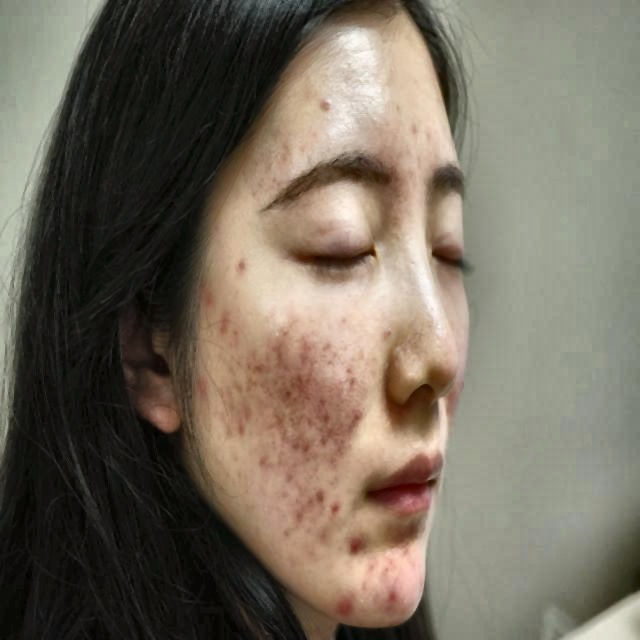papule: (190, 362, 221, 407), (381, 581, 410, 622), (312, 390, 340, 428), (212, 306, 240, 343), (334, 583, 356, 620), (251, 441, 273, 477), (195, 275, 218, 309), (227, 242, 253, 268), (333, 432, 355, 461), (309, 472, 327, 506), (289, 335, 308, 366), (293, 432, 311, 463), (316, 93, 336, 120), (237, 408, 253, 439), (342, 407, 361, 431), (249, 351, 263, 381), (324, 493, 339, 521), (320, 416, 336, 441), (345, 369, 361, 394), (342, 530, 357, 556), (287, 492, 304, 512)
